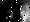person: (21, 6, 30, 22), (8, 11, 14, 19)
